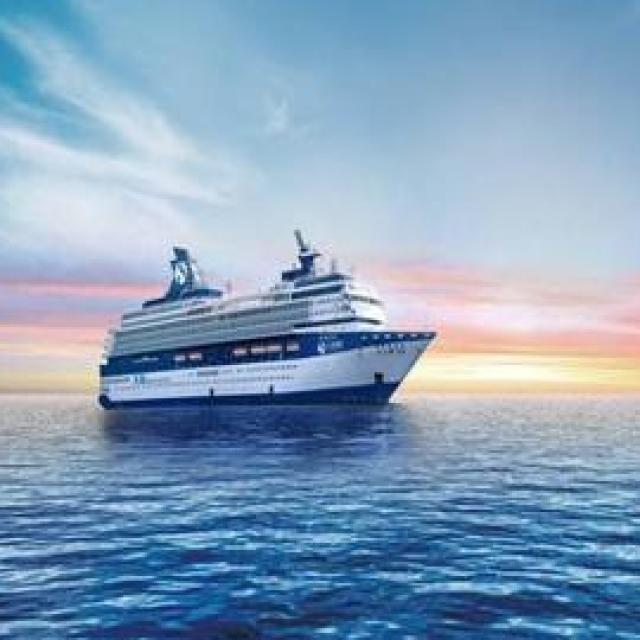passenger ship: (95, 236, 428, 408)
